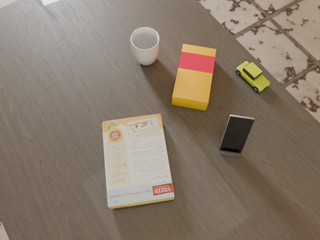box: (102, 114, 174, 209), (172, 44, 216, 110)
cup: (131, 27, 159, 65)
phone: (219, 115, 255, 153)
toy_car: (236, 61, 270, 92)
